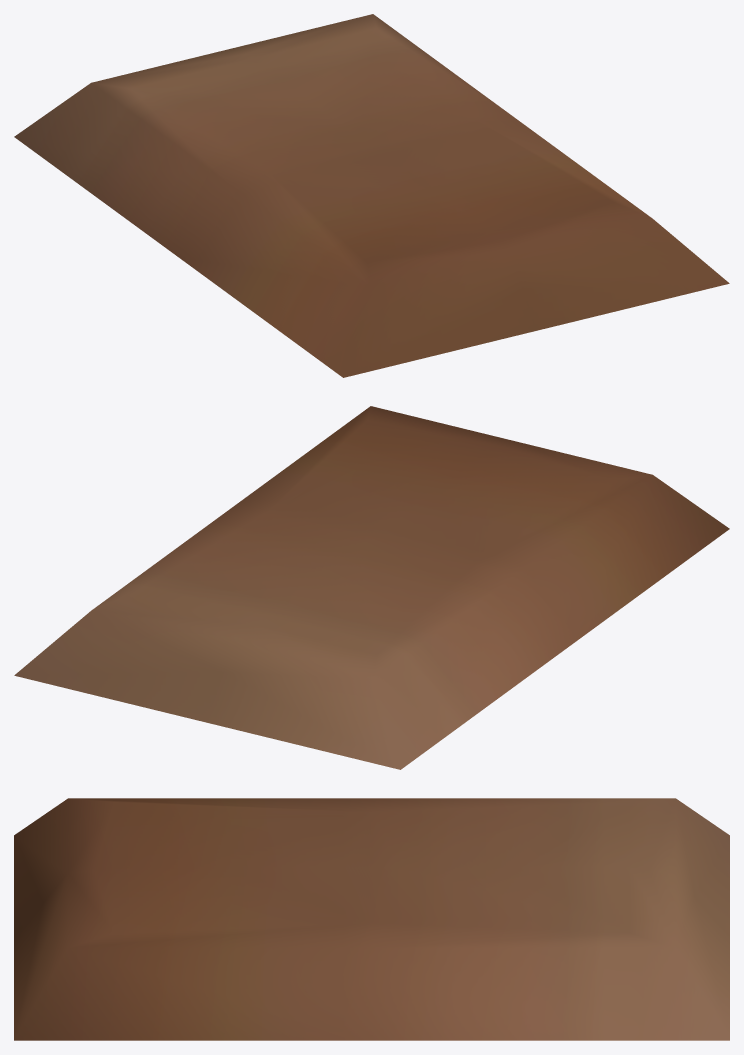
File: HillDirtPlateau.glb
3 renders of one model, top to bottom at view 1: azimuth 30°, elevation 25°; view 2: azimuth 150°, elevation 25°; view 3: azimuth 270°, elevation 25°, orthographic. The views are drawn at different scales.
Visible parts, largest first — view 1: HillDirtPlateau; view 2: HillDirtPlateau; view 3: HillDirtPlateau.
Part boxes in pixels (x1,y1,x2,y2): HillDirtPlateau: [14, 14, 729, 377]; HillDirtPlateau: [14, 406, 729, 769]; HillDirtPlateau: [14, 798, 729, 1040].
Bounding box in the file's own units: 9 × 1.44 × 13.28.
1 material, 1 textured.
